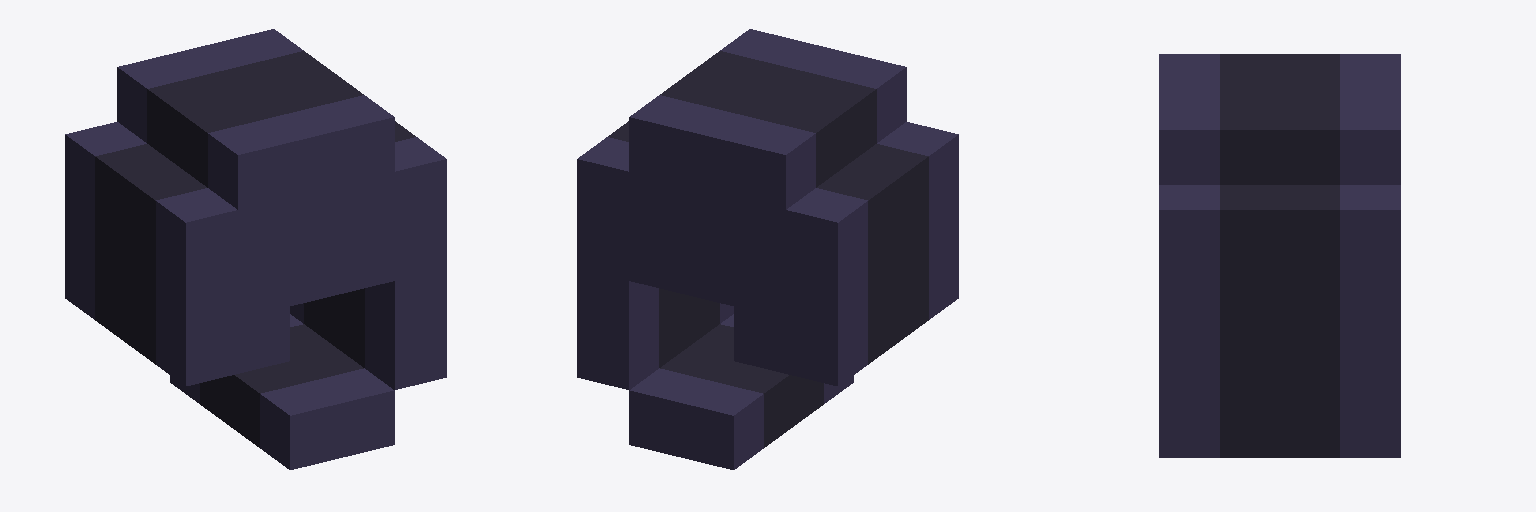
3 renders of one model, left to right at view 1: azimuth 30°, elevation 25°; view 2: azimuth 150°, elevation 25°; view 3: azimuth 270°, elevation 25°, orthographic.
Visible parts, largest first — view 1: object 1; view 2: object 1; view 3: object 1.
Part boxes in pixels (x1,y1,x2,y2): object 1: (65,29,446,469); object 1: (577,29,958,469); object 1: (1159,54,1400,457).
Size of the model in its own units: 0.5 by 0.6 by 0.4.
1 materials, 1 textured.